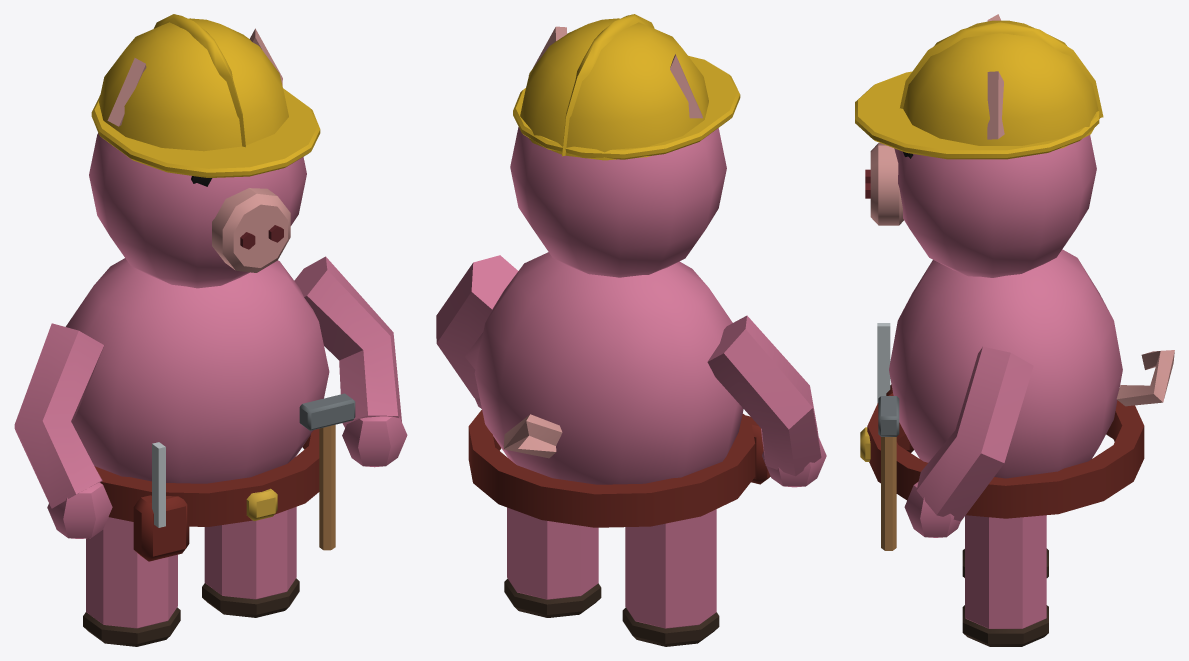
The model's file is 109_cochon_constructeur.fbx.
The picture shows the model from 3 angles, left to right: view 1: azimuth 30°, elevation 25°; view 2: azimuth 150°, elevation 25°; view 3: azimuth 270°, elevation 25°; orthographic projection. The views are drawn at different scales.
Visible parts, largest first — view 1: Corps, Casque, Outils; view 2: Corps, Casque, Outils; view 3: Corps, Casque, Outils.
Boxes of the visible parts, x1=… form: Corps: x1=14, y1=28, x2=407, y2=646; Casque: x1=91, y1=14, x2=320, y2=177; Outils: x1=94, y1=393, x2=355, y2=561; Corps: x1=436, y1=26, x2=826, y2=646; Casque: x1=513, y1=14, x2=740, y2=160; Outils: x1=468, y1=410, x2=770, y2=527; Corps: x1=865, y1=14, x2=1174, y2=646; Casque: x1=855, y1=20, x2=1103, y2=159; Outils: x1=860, y1=323, x2=1144, y2=550.
Size of the model in its own units: 0.448 by 0.672 by 0.336.
1 material, 1 textured.
